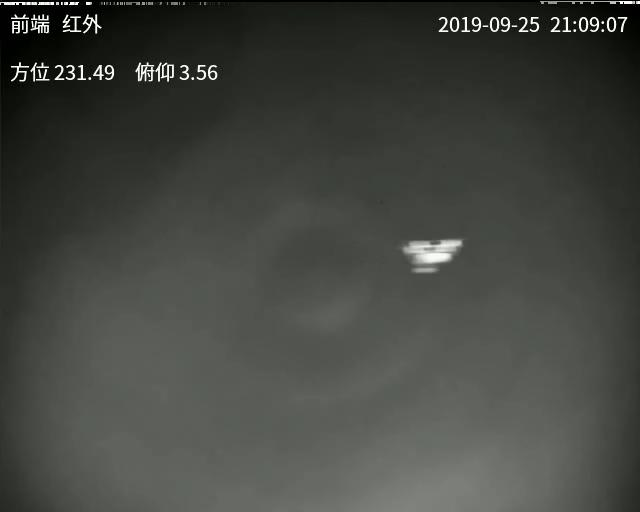uav: (384, 234, 445, 277)
